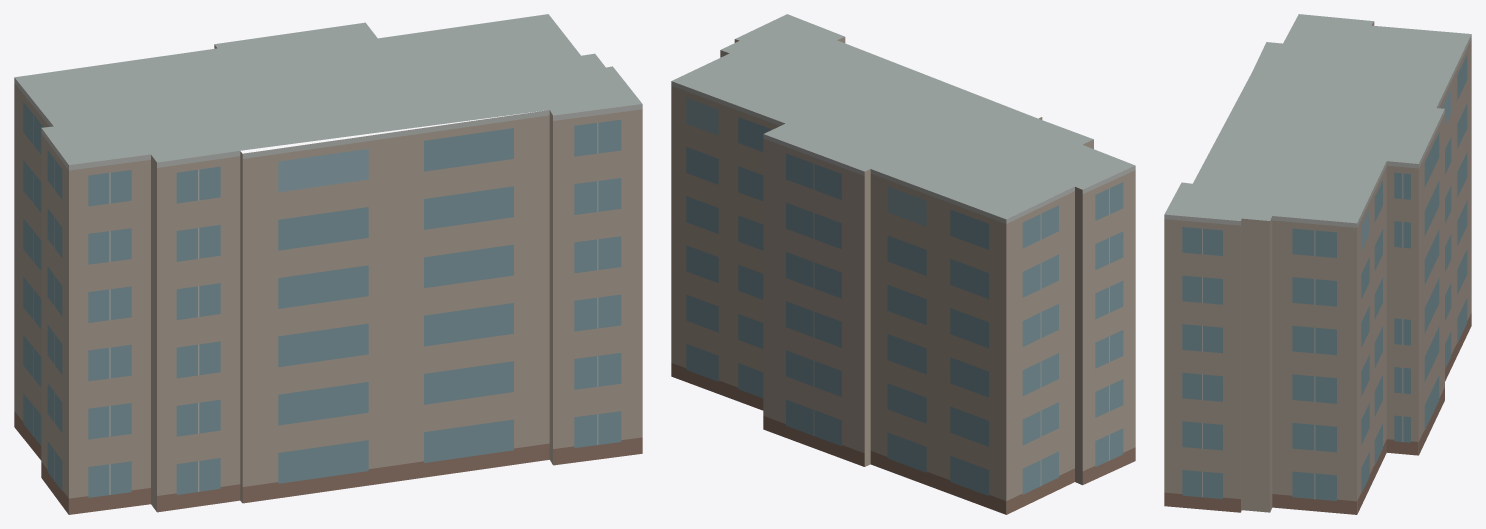
The model's file is survey-upis-32657886.glb.
The picture shows the model from 3 angles, left to right: view 1: azimuth 30°, elevation 25°; view 2: azimuth 150°, elevation 25°; view 3: azimuth 270°, elevation 25°; orthographic projection. The views are drawn at different scales.
Parts seen in each view (by area): view 1: survey-upis-32657886.tmp; view 2: survey-upis-32657886.tmp; view 3: survey-upis-32657886.tmp.
Part boxes in pixels (x1,y1,x2,y2): survey-upis-32657886.tmp: (14, 14, 642, 514); survey-upis-32657886.tmp: (671, 14, 1135, 514); survey-upis-32657886.tmp: (1164, 14, 1471, 514).
Bounding box in the file's own units: 24.5 × 15.9 × 15.21.
